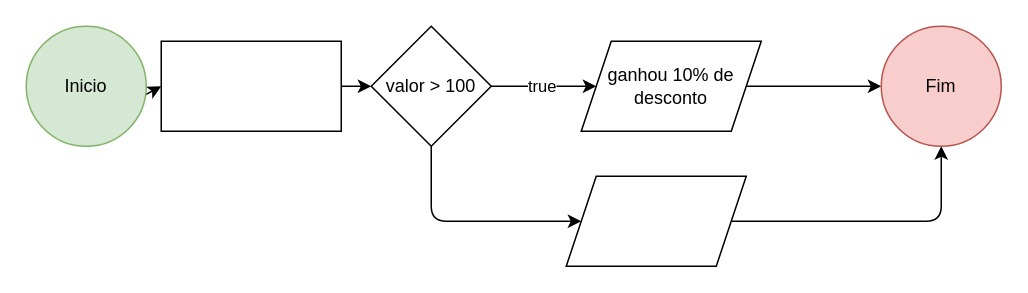
Image size: 1028x293. Some labels were removed from this diagram. Here are the shapes that lost their labels. From the top down, the centre of each, then its label:
At point 250,85: "Digite o valor da Sua compra".
At point 655,220: "faça compra acima de 100".
